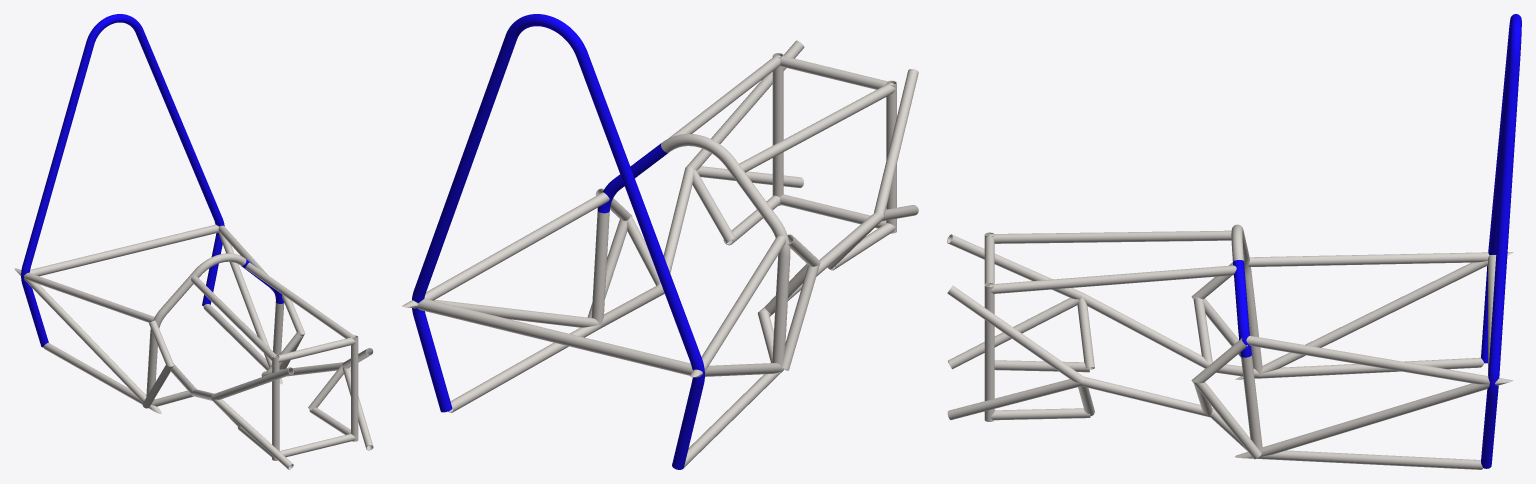
Rendered from 25-ch-004-chassis.glb.
The picture shows the model from 3 angles, left to right: view 1: azimuth 30°, elevation 25°; view 2: azimuth 150°, elevation 25°; view 3: azimuth 270°, elevation 25°; orthographic projection. The views are drawn at different scales.
Parts seen in each view (by area): view 1: 25-CH-004-Chassis; view 2: 25-CH-004-Chassis; view 3: 25-CH-004-Chassis.
Part boxes in pixels (x1,y1,x2,y2): 25-CH-004-Chassis: (14,14,373,469); 25-CH-004-Chassis: (402,14,918,469); 25-CH-004-Chassis: (947,14,1521,469).
Size of the model in its own units: 0.7888 by 1.13 by 1.47.
